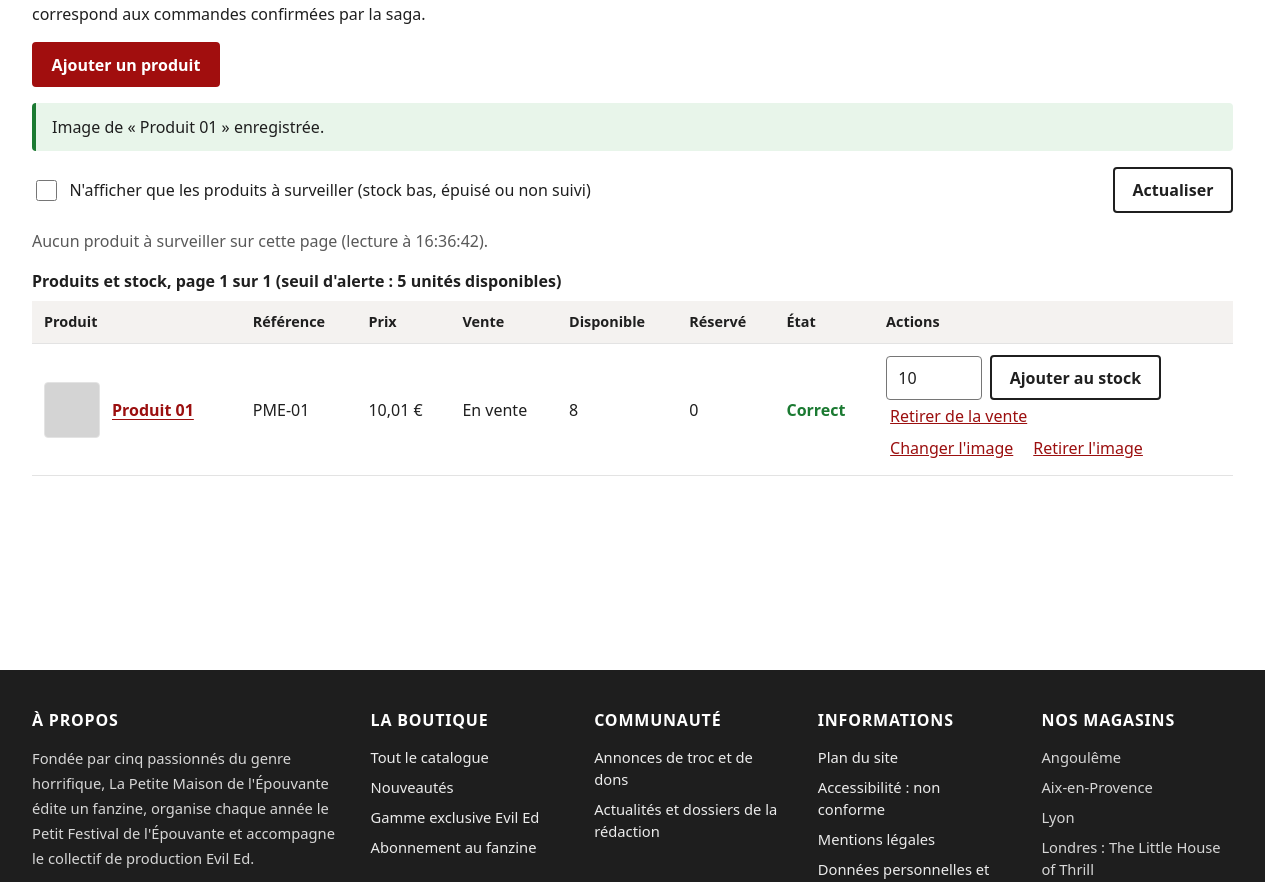
Scenario: Images des produits (US21) › remplace puis retire l’image d’un produit depuis « Produits et stock »
Earlier steps of the test are not shown.
(page scrolled)
Expected: the button named "Changer l'image de Produit 01" is shown, [886,432,1017,464]
Expected: the text "Image de « Produit 01 » enregistrée." is shown, [32,103,1233,151]
Click the button named "Retirer l'image de Produit 01" at (1088, 448), box [1029,432,1147,464]
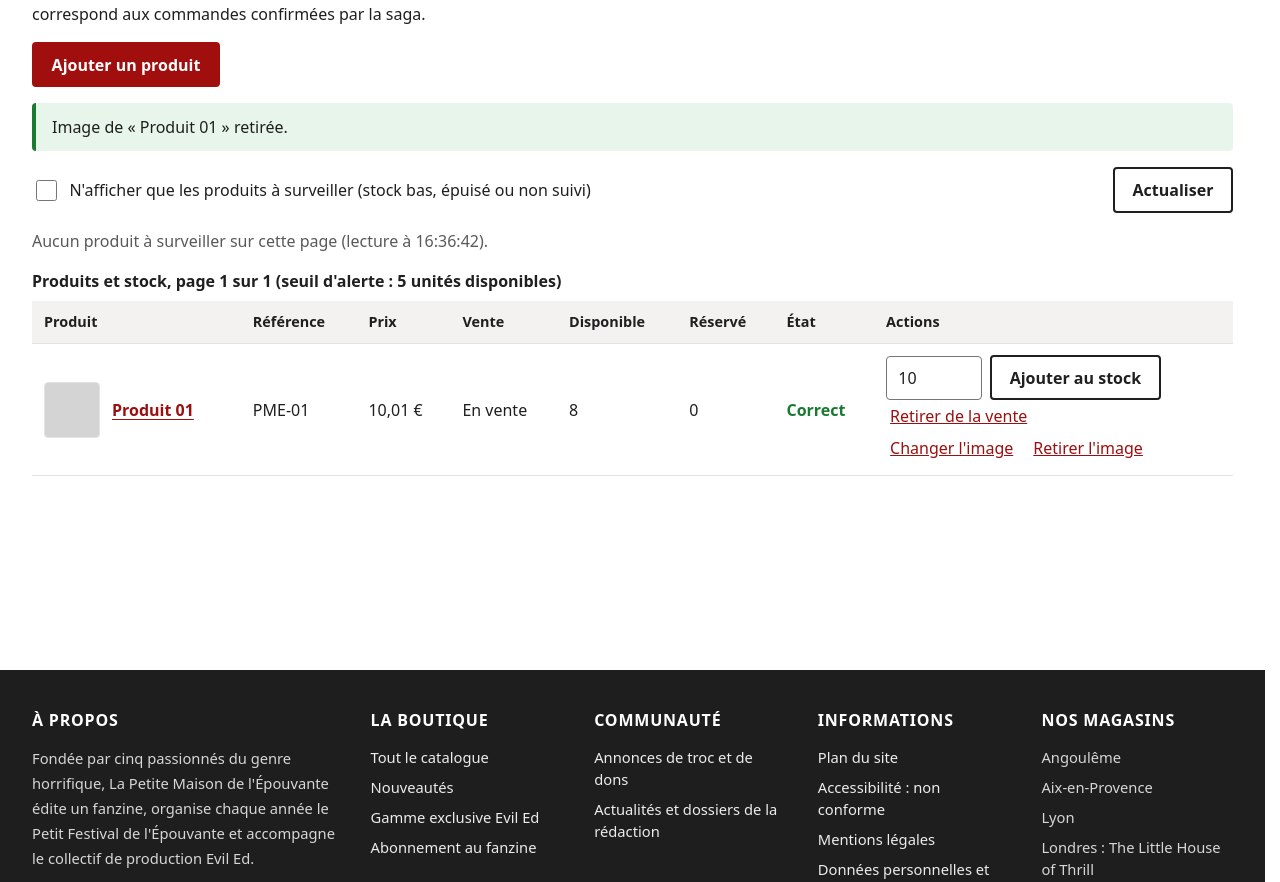
Now the text "Image de « Produit 01 » retirée." is shown, box [32,103,1233,151]
